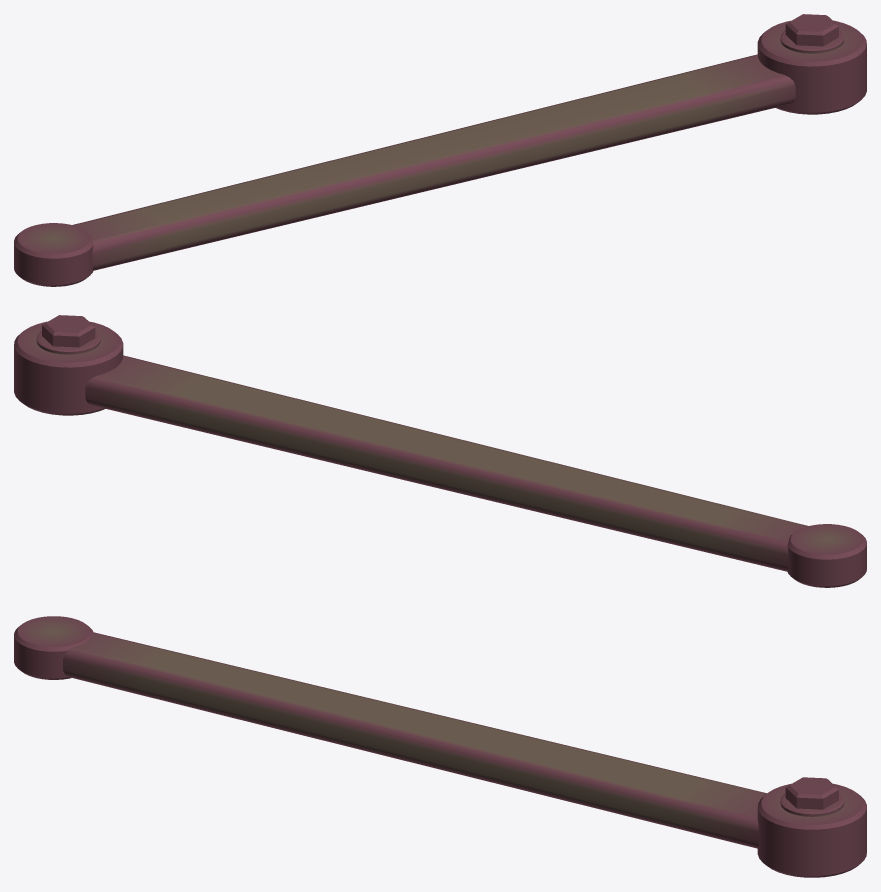
Rendered from Kit_DoorCloser_Arm.fbx.
3 views of the same model, one above another, from view 1: azimuth 30°, elevation 25°; view 2: azimuth 150°, elevation 25°; view 3: azimuth 330°, elevation 25° (orthographic).
Visible parts, largest first — view 1: Kit_DoorCloser_Arm_LOD0; view 2: Kit_DoorCloser_Arm_LOD0; view 3: Kit_DoorCloser_Arm_LOD0.
Part boxes in pixels (left/top/right/bottom): Kit_DoorCloser_Arm_LOD0: left=14, top=14, right=866, bottom=286; Kit_DoorCloser_Arm_LOD0: left=14, top=315, right=866, bottom=587; Kit_DoorCloser_Arm_LOD0: left=14, top=616, right=866, bottom=877.
Size of what is drawn, in the model's own units: 0.266 by 0.0212 by 0.03.
